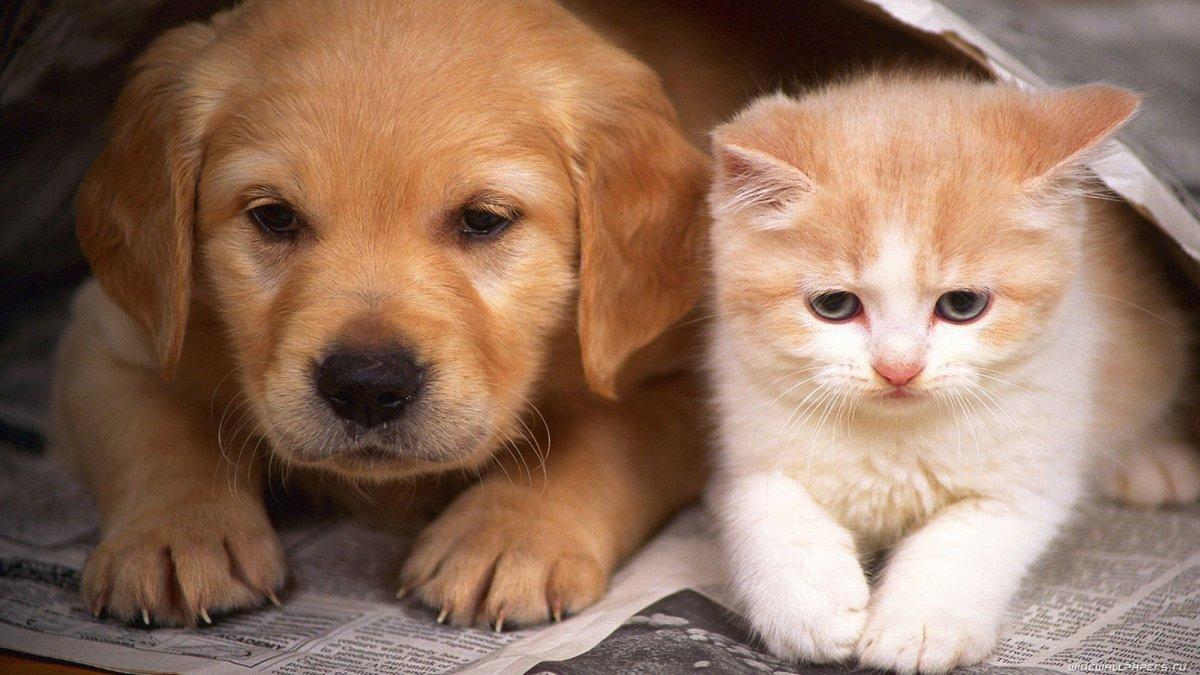animals: (31, 0, 705, 627), (706, 67, 1200, 662)
